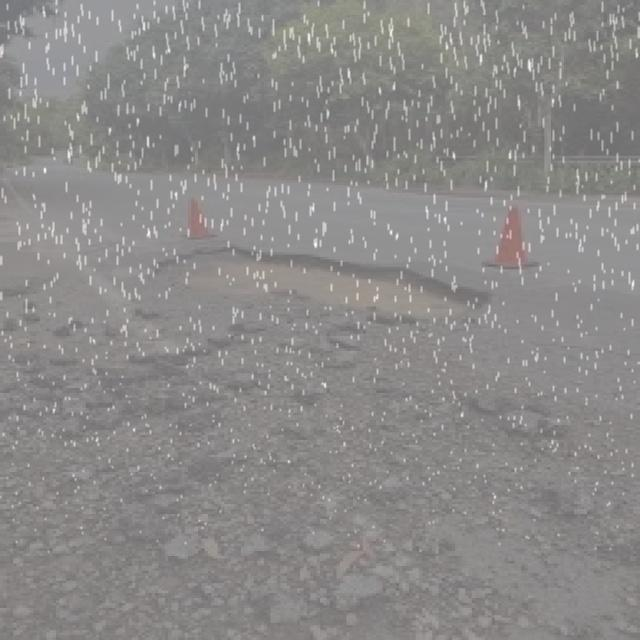Pothole: (145, 245, 491, 348)
